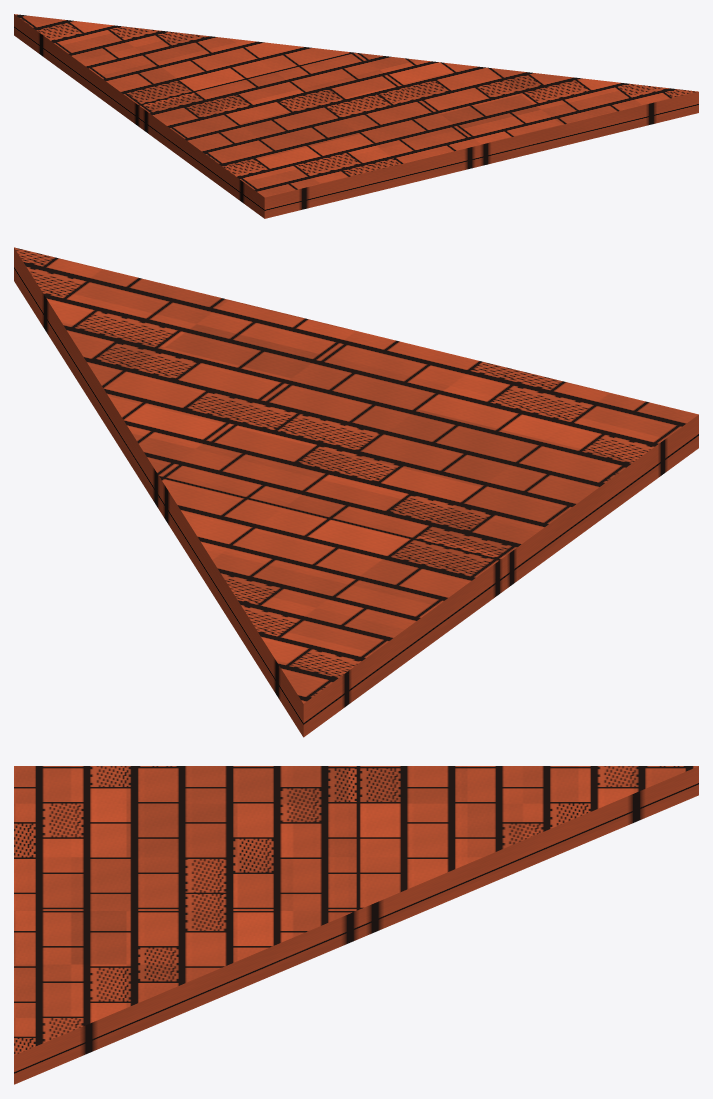
The model's file is theodosian red roof inverse.glb.
3 views of the same model, one above another, from view 1: azimuth 30°, elevation 25°; view 2: azimuth 150°, elevation 25°; view 3: azimuth 270°, elevation 25° (orthographic). The views are drawn at different scales.
Visible parts, largest first — view 1: Theodosian_red_inverse; view 2: Theodosian_red_inverse; view 3: Theodosian_red_inverse.
Boxes of the visible parts, x1,y1,x2,y2 form: Theodosian_red_inverse: (14,14,698,218); Theodosian_red_inverse: (14,247,698,737); Theodosian_red_inverse: (14,766,698,1084).
Size of the model in its own units: 1 by 0.047 by 1.
Materials: 1 (1 with a texture image).
